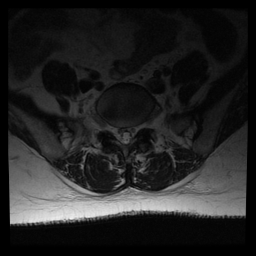CCS_normal: (121, 121, 128, 148)
LFS_stenosis: (135, 119, 142, 137)
LLS_normal: (128, 121, 135, 143)
RFS_normal: (106, 119, 113, 136)
RLS_normal: (113, 121, 121, 145)
